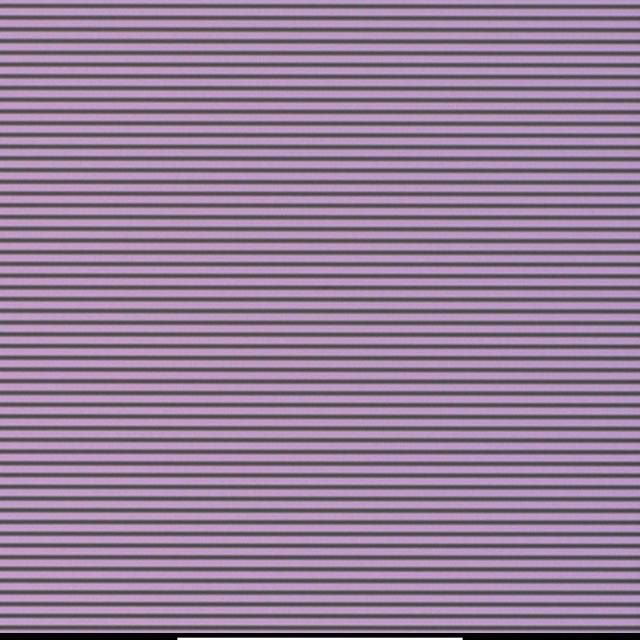03_intrusion: (333, 260, 340, 270)
